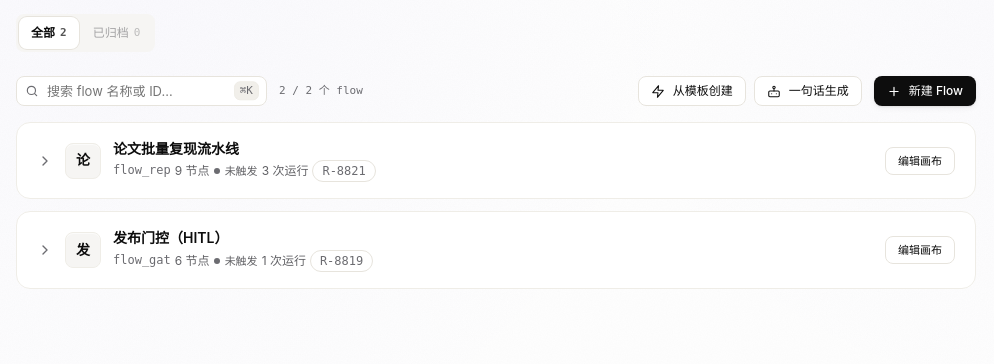
Test: FlowsView list-page (M2.1 fidelity) › expands a flow-card to reveal the honest empty runs panel
The image size is (994, 364).
Click the button with class "flow-card-head" that starts with "论文批量复现流水线" at point(83, 161), box x1=37 y1=140 x2=955 y2=182
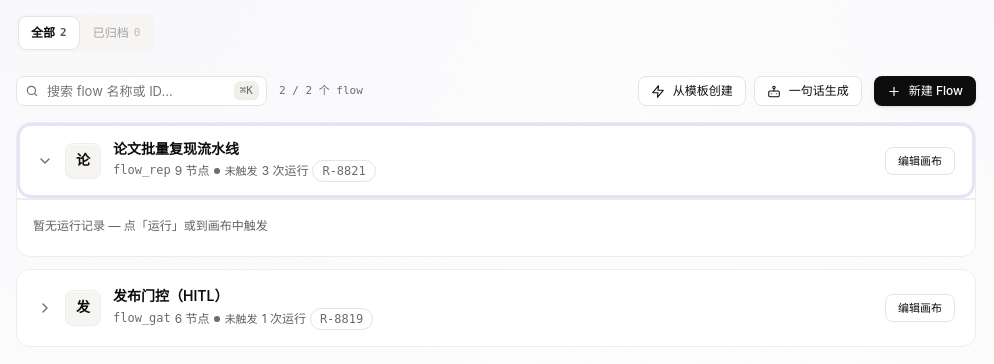
Result: the button with class "flow-card-head" is expanded at x1=17 y1=123 x2=975 y2=198
Result: the list with class "flow-runs" is shown at x1=17 y1=199 x2=975 y2=256
Result: the list with class "flow-runs" reads "暂无运行记录 — 点「运行」或到画布中触发" at x1=33 y1=218 x2=268 y2=233
